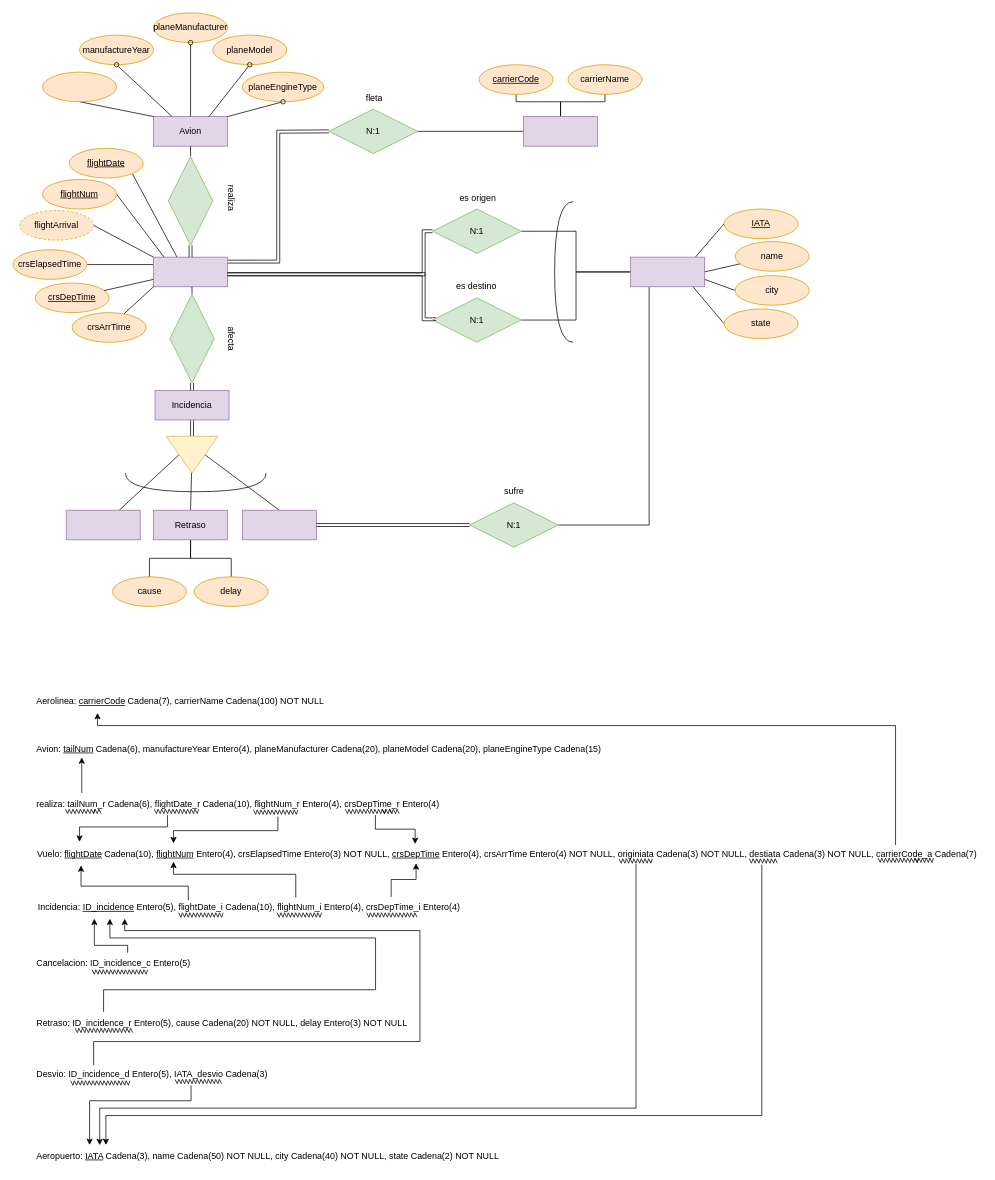
Image size: 995x1180. Some labels were removed from this diagram. The shapes that lost their labels are listed below. From the top down, each one's box as (x1, y1, x2, y2) in pixels, then its label:
(42, 71, 117, 102): tailNum
(523, 116, 598, 146): Aerolinea
(168, 156, 213, 245): N:M
(153, 256, 228, 287): Vuelo
(630, 256, 705, 287): Aeropuerto
(169, 293, 214, 383): 1:N
(65, 509, 140, 540): Cancelacion
(242, 509, 316, 540): Desvio
